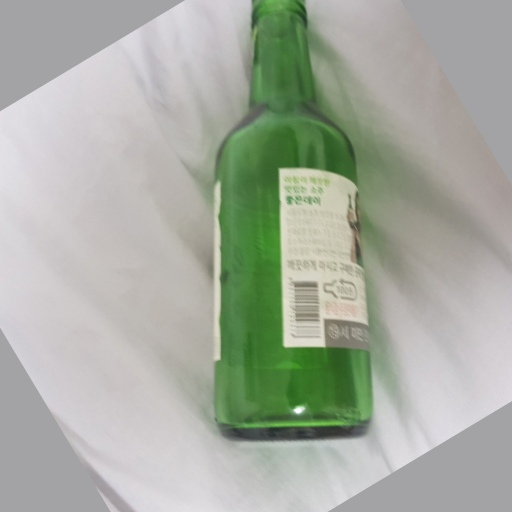Glass_0: (204, 2, 380, 448)
